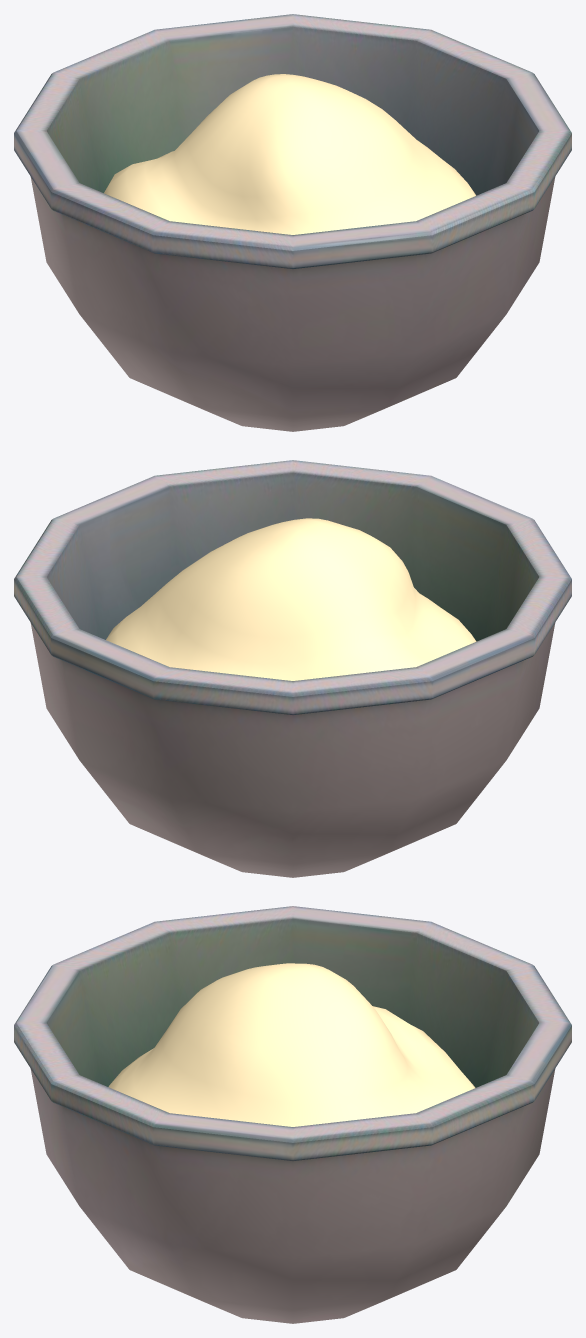
File: mixingBowlDough.gltf
3 views of the same model, one above another, from view 1: azimuth 30°, elevation 25°; view 2: azimuth 150°, elevation 25°; view 3: azimuth 270°, elevation 25° (orthographic).
Visible parts, largest first — view 1: MixingBowl, Sphere; view 2: MixingBowl, Sphere; view 3: MixingBowl, Sphere.
Part boxes in pixels (x1,y1,x2,y2): MixingBowl: (14, 14, 571, 431); Sphere: (104, 74, 475, 234); MixingBowl: (14, 460, 571, 877); Sphere: (106, 518, 476, 680); MixingBowl: (14, 906, 571, 1323); Sphere: (108, 963, 475, 1126).
Size of the model in its own units: 0.3931 by 0.2526 by 0.3931.
Materials: 2 (2 with a texture image).
